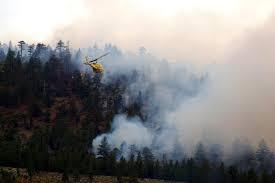smoke: (91, 2, 275, 160)
